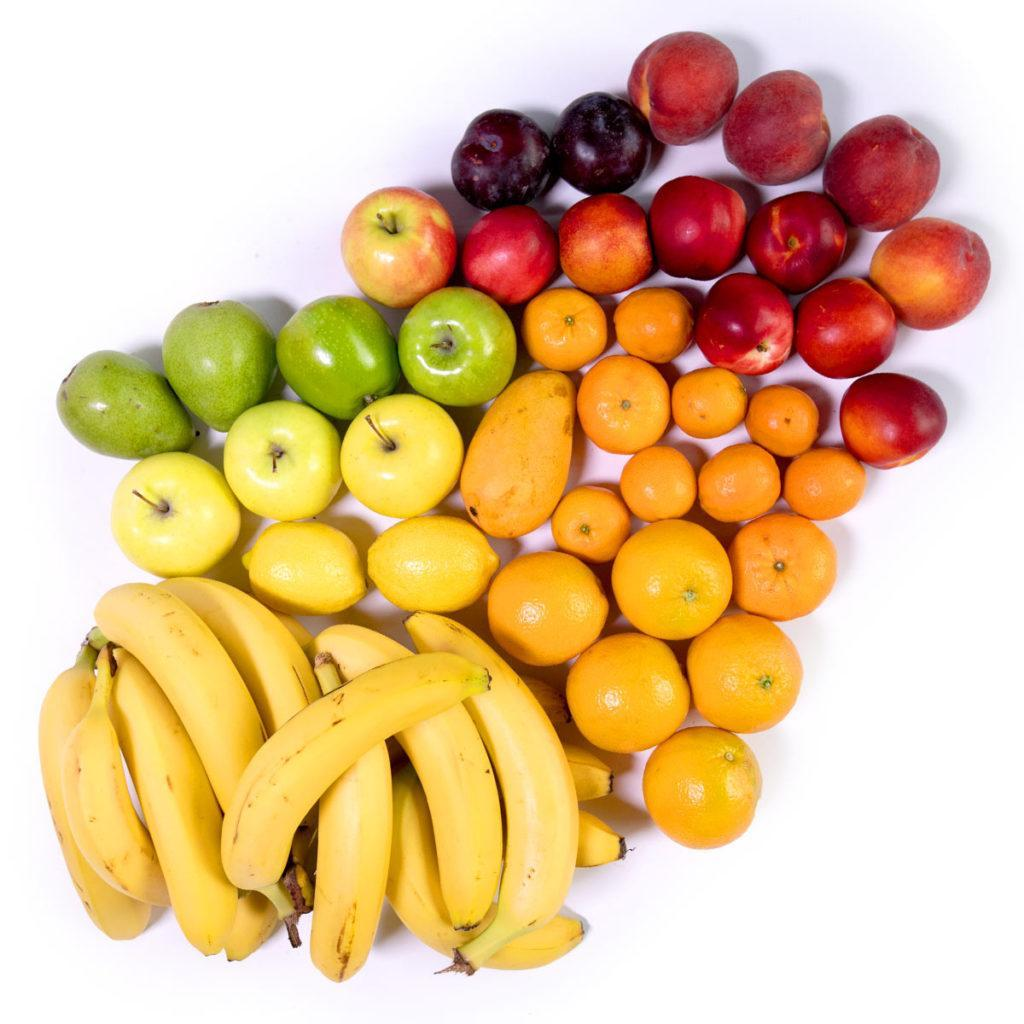apple: (108, 450, 241, 578), (341, 184, 460, 309), (343, 393, 463, 516), (221, 400, 341, 523), (796, 278, 900, 379), (841, 372, 945, 473), (653, 176, 748, 279), (700, 270, 795, 373), (750, 189, 845, 292), (465, 207, 557, 303), (560, 196, 652, 292)
